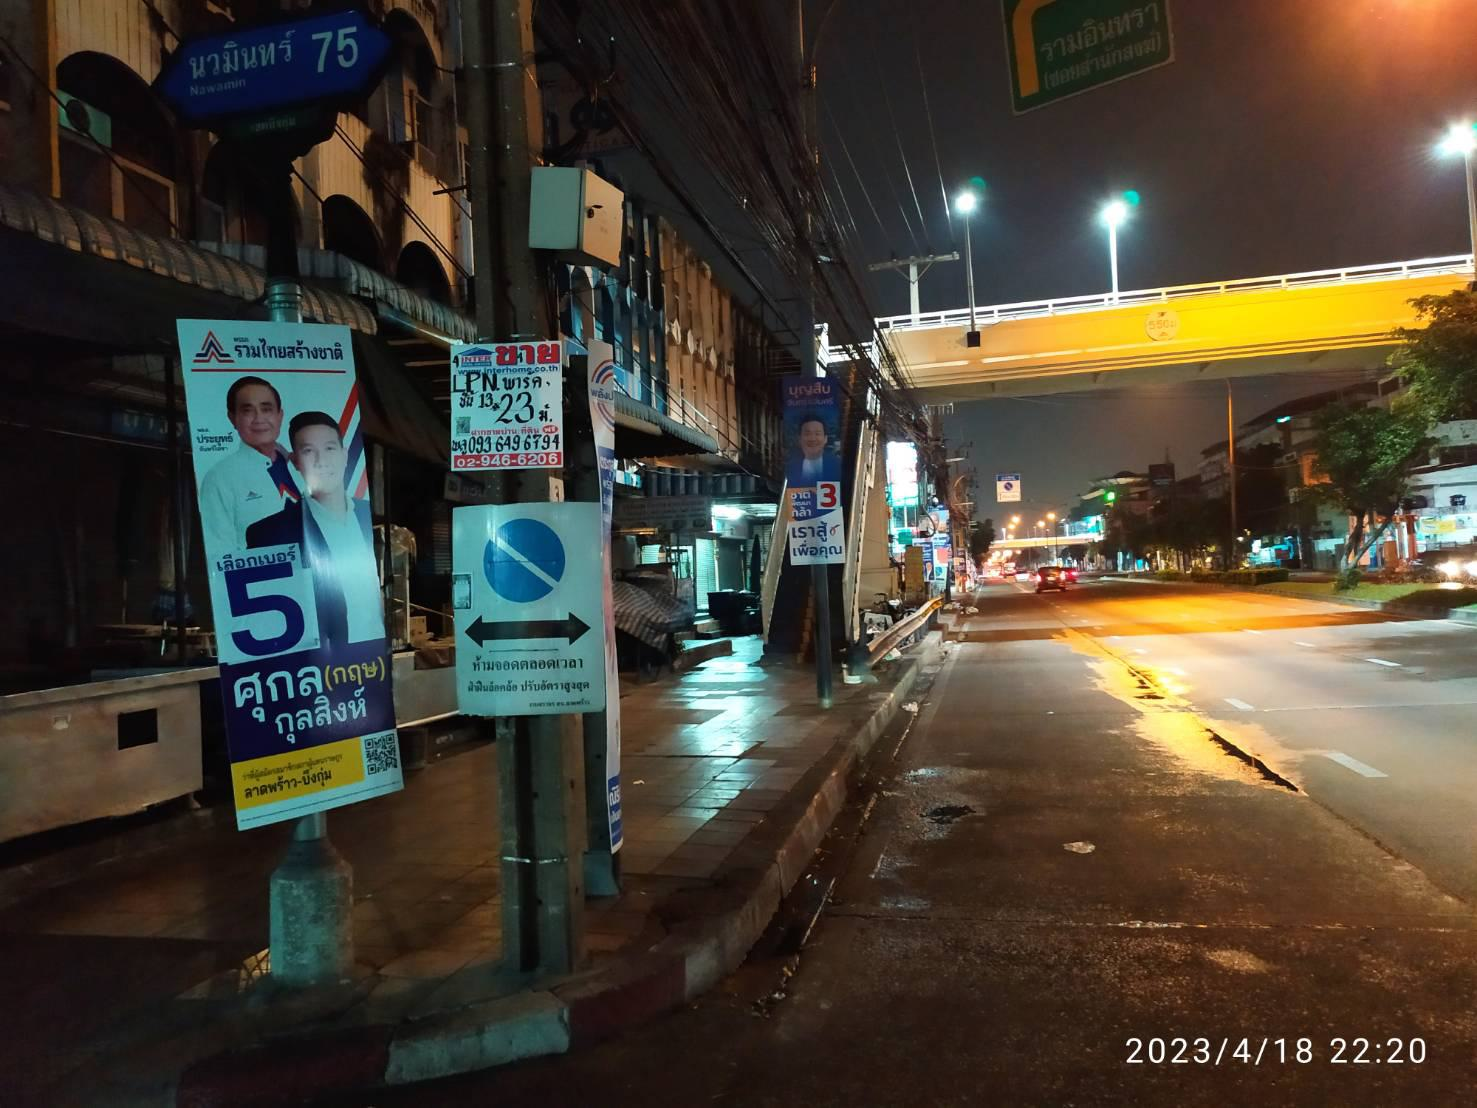Banner: (172, 318, 416, 845), (764, 381, 866, 560)
